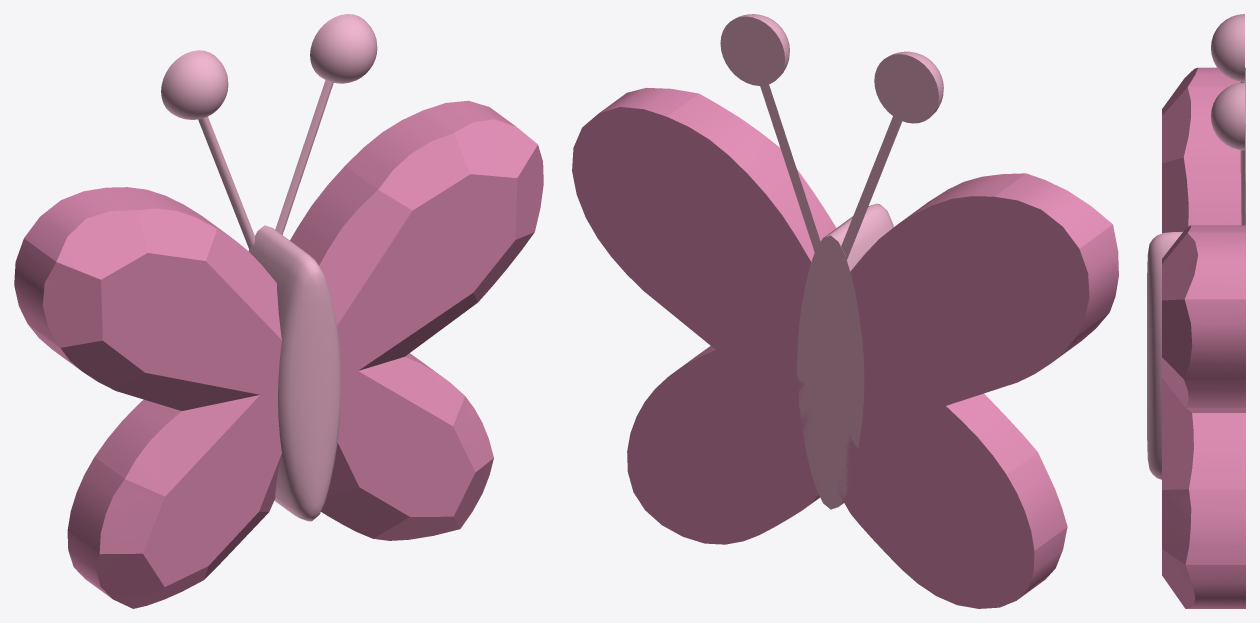
Rendered from ElementosAmabilidad.fbx.
The picture shows the model from 3 angles, left to right: view 1: azimuth 30°, elevation 25°; view 2: azimuth 150°, elevation 25°; view 3: azimuth 270°, elevation 25°; orthographic projection. The views are drawn at different scales.
Parts seen in each view (by area): view 1: Kindness; view 2: Kindness; view 3: Kindness.
Boxes of the visible parts, <box> form: Kindness: <box>14,14,543,608</box>; Kindness: <box>572,14,1118,608</box>; Kindness: <box>1147,14,1245,608</box>.
Size of the model in its own units: 0.997 by 0.9891 by 0.1806.
1 material, 1 textured.
